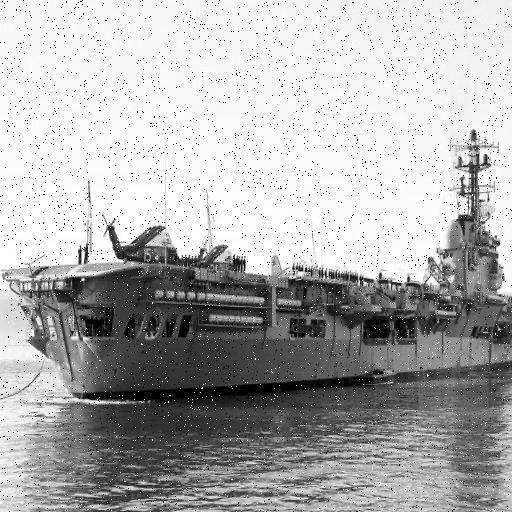Portanaves: (1, 124, 512, 407)
